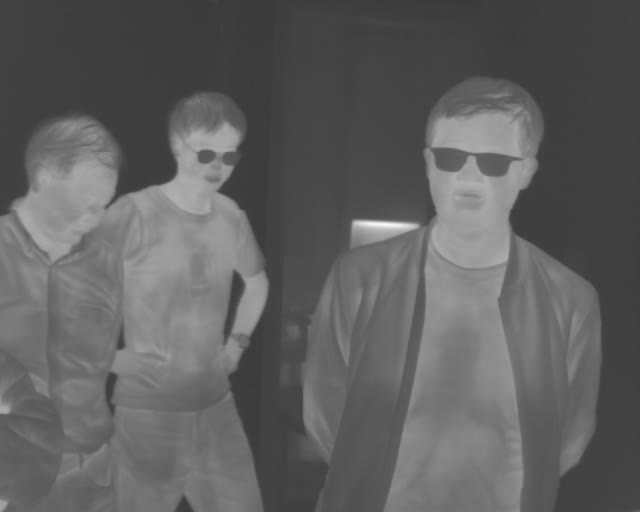face: (423, 73, 544, 236), (23, 110, 122, 248), (165, 89, 248, 193)
